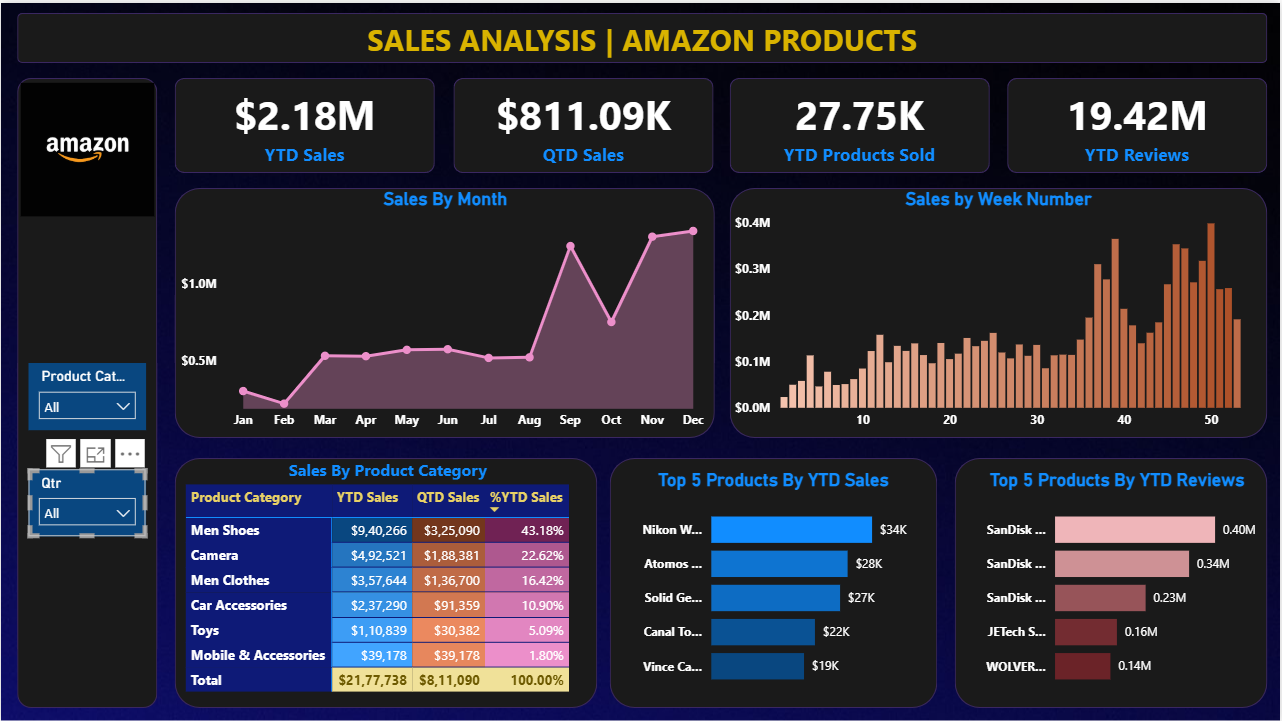

This screenshot's page, from the dashboard's own definition file:
{"tool":"powerbi","page":{"name":"Page 1","canvas":[1280,720],"ordinal":0},"visuals":[{"type":"shape","box":[16.2,75,140,630],"z":0},{"type":"shape","box":[16.2,10,1250,50],"z":1000},{"type":"shape","box":[173.8,75,260,95],"z":2000},{"type":"card","fields":{"Values":["Amazon_Data.YTD Sales"]},"box":[173.8,75,260,95],"z":3000},{"type":"shape","box":[173.8,185,540,250],"z":4000},{"type":"shape","box":[1006.2,75,260,95],"z":5000},{"type":"areaChart","title":"  Sales By Month","fields":{"Y":["Sum(Amazon_Data.Price(Dollar))"],"Category":["Date Table.Month"]},"box":[175,185,538.8,250],"z":6000},{"type":"shape","box":[728.8,75,260,95],"z":7000},{"type":"shape","box":[728.8,185,537.5,250],"z":8000},{"type":"card","fields":{"Values":["Amazon_Data.YTD Products Sold"]},"box":[728.8,75,260,95],"z":9000},{"type":"columnChart","title":"Sales by Week Number","fields":{"Category":["Date Table.Week Number"],"Y":["Sum(Amazon_Data.Price(Dollar))"]},"box":[728.8,185,537.5,250],"z":10000},{"type":"shape","box":[452.5,75,260,95],"z":11000},{"type":"shape","box":[173.8,455,422.5,250],"z":12000},{"type":"card","fields":{"Values":["Amazon_Data.QTD Sales"]},"box":[452.5,75,260,95],"z":13000},{"type":"pivotTable","title":"Sales By Product Category","fields":{"Rows":["Amazon_Data.Product Category"],"Values":["Amazon_Data.YTD Sales","Amazon_Data.QTD Sales","Divide(Amazon_Data.YTD Sales, ScopedEval(Amazon_Data.YTD Sales, []))"]},"box":[180,455,413.8,250],"z":14000},{"type":"card","fields":{"Values":["Amazon_Data.YTD Reviews"]},"box":[1006.2,75,260,95],"z":15000},{"type":"shape","box":[608.8,455,327.5,250],"z":16000},{"type":"clusteredBarChart","title":"Top 5 Products By YTD Sales","fields":{"Category":["Amazon_Data.Product Description"],"Y":["Amazon_Data.YTD Sales"]},"box":[622.5,466.2,300,230],"z":17000},{"type":"shape","box":[953.8,455,312.5,250],"z":18000},{"type":"clusteredBarChart","title":"Top 5 Products By YTD Reviews","fields":{"Category":["Amazon_Data.Product Description"],"Y":["Amazon_Data.YTD Reviews"]},"box":[966.2,466.2,300,230],"z":19000},{"type":"slicer","fields":{"Values":["Amazon_Data.Product Category"]},"box":[27.5,360,117.5,67.5],"z":20000},{"type":"slicer","fields":{"Values":["Date Table.Qtr"]},"box":[27.5,466.2,117.5,67.5],"z":21000},{"type":"image","box":[3.8,75,165,143.8],"z":22000}]}

Visuals, with their boxes in screenshot pixels (x1, y1, x2, y2), scaled from the page's 1280x720 canvas onto the 1282x721 screenshot:
shape: [16, 75, 156, 706]
shape: [16, 10, 1268, 60]
shape: [174, 75, 434, 170]
card - Amazon_Data.YTD Sales: [174, 75, 434, 170]
shape: [174, 185, 715, 436]
shape: [1008, 75, 1268, 170]
"  Sales By Month" areaChart: [175, 185, 715, 436]
shape: [730, 75, 990, 170]
shape: [730, 185, 1268, 436]
card - Amazon_Data.YTD Products Sold: [730, 75, 990, 170]
"Sales by Week Number" columnChart: [730, 185, 1268, 436]
shape: [453, 75, 714, 170]
shape: [174, 456, 597, 706]
card - Amazon_Data.QTD Sales: [453, 75, 714, 170]
"Sales By Product Category" pivotTable: [180, 456, 595, 706]
card - Amazon_Data.YTD Reviews: [1008, 75, 1268, 170]
shape: [610, 456, 938, 706]
"Top 5 Products By YTD Sales" clusteredBarChart: [623, 467, 924, 697]
shape: [955, 456, 1268, 706]
"Top 5 Products By YTD Reviews" clusteredBarChart: [968, 467, 1268, 697]
slicer - Amazon_Data.Product Category: [28, 360, 145, 428]
slicer - Date Table.Qtr: [28, 467, 145, 534]
image: [4, 75, 169, 219]
